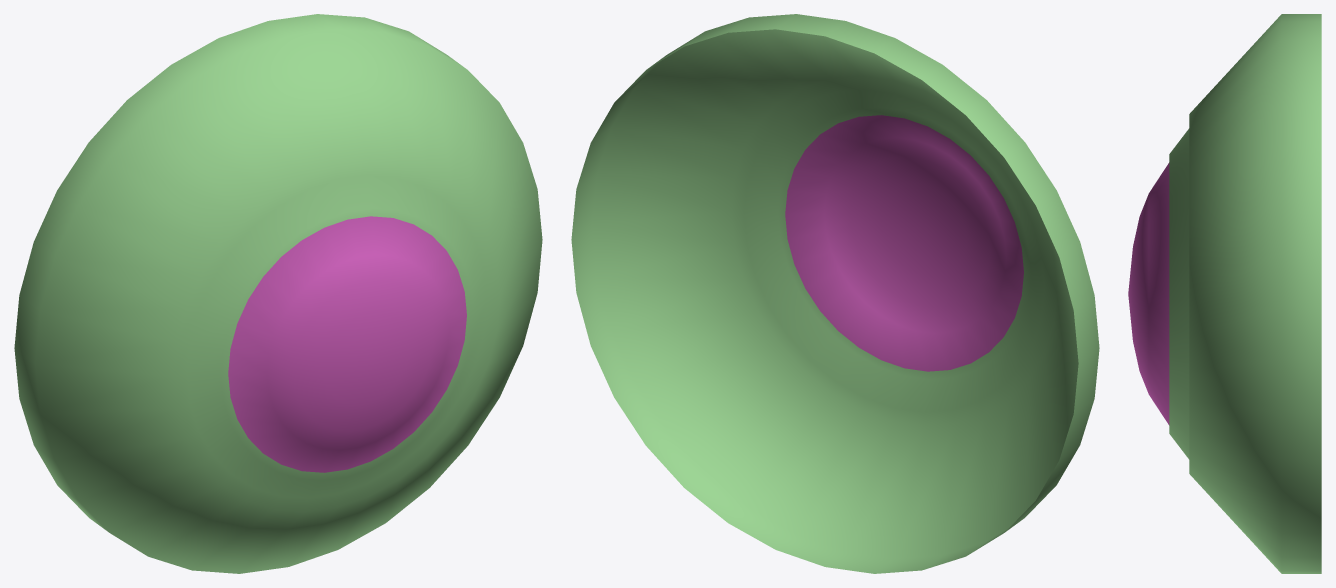
Rendered from PoolLight.fbx.
3 renders of one model, left to right at view 1: azimuth 30°, elevation 25°; view 2: azimuth 150°, elevation 25°; view 3: azimuth 270°, elevation 25°, orthographic. The views are drawn at different scales.
Parts seen in each view (by area): view 1: PoolLight; view 2: PoolLight; view 3: PoolLight.
Part boxes in pixels (x1,y1,x2,y2): PoolLight: (14, 14, 542, 573); PoolLight: (571, 14, 1099, 573); PoolLight: (1128, 14, 1321, 573).
Size of the model in its own units: 1.2 by 1.2 by 0.416.
